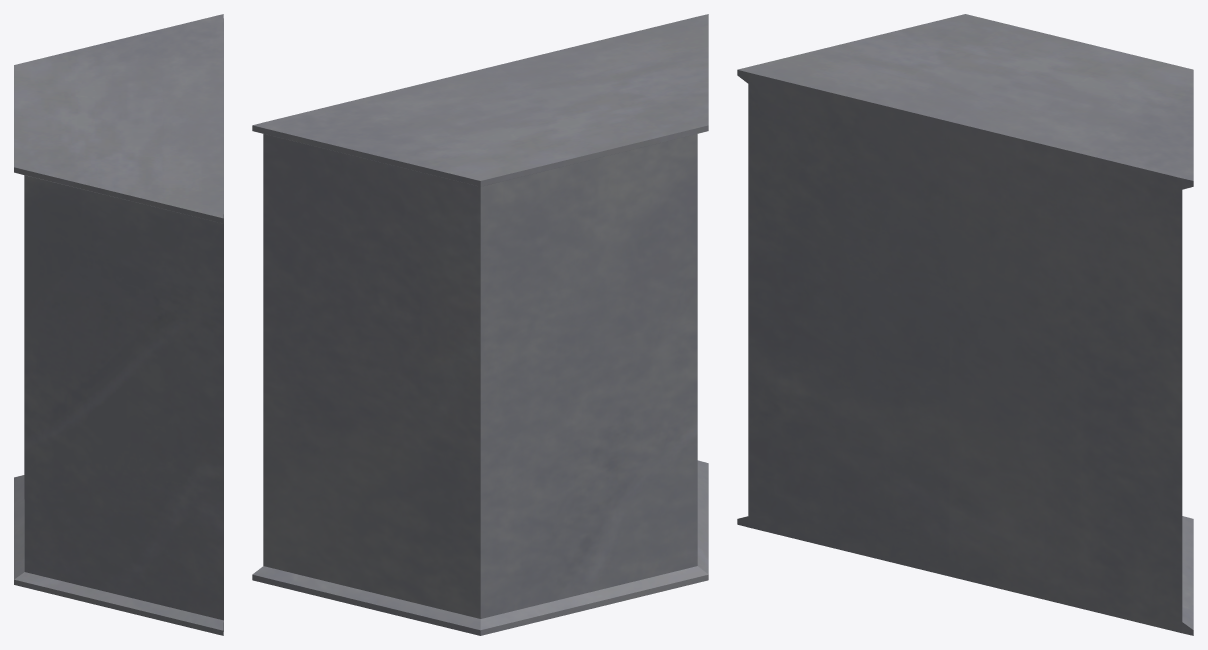
File: PillarHex.001.fbx
3 views of the same model, side by side, from view 1: azimuth 30°, elevation 25°; view 2: azimuth 150°, elevation 25°; view 3: azimuth 270°, elevation 25° (orthographic). The views are drawn at different scales.
Visible parts, largest first — view 1: PillarHex.001; view 2: PillarHex.001; view 3: PillarHex.001.
Boxes of the visible parts, <box> form: PillarHex.001: <box>14,14,223,635</box>; PillarHex.001: <box>252,14,708,635</box>; PillarHex.001: <box>737,14,1193,635</box>.
Size of the model in its own units: 157 by 200 by 182.
